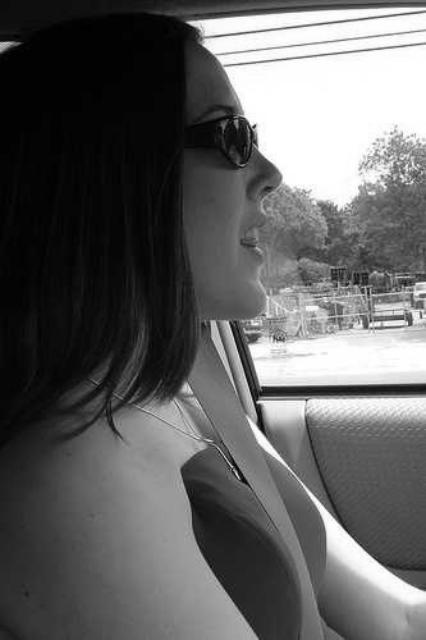Seatbelt: (186, 318, 329, 640)
